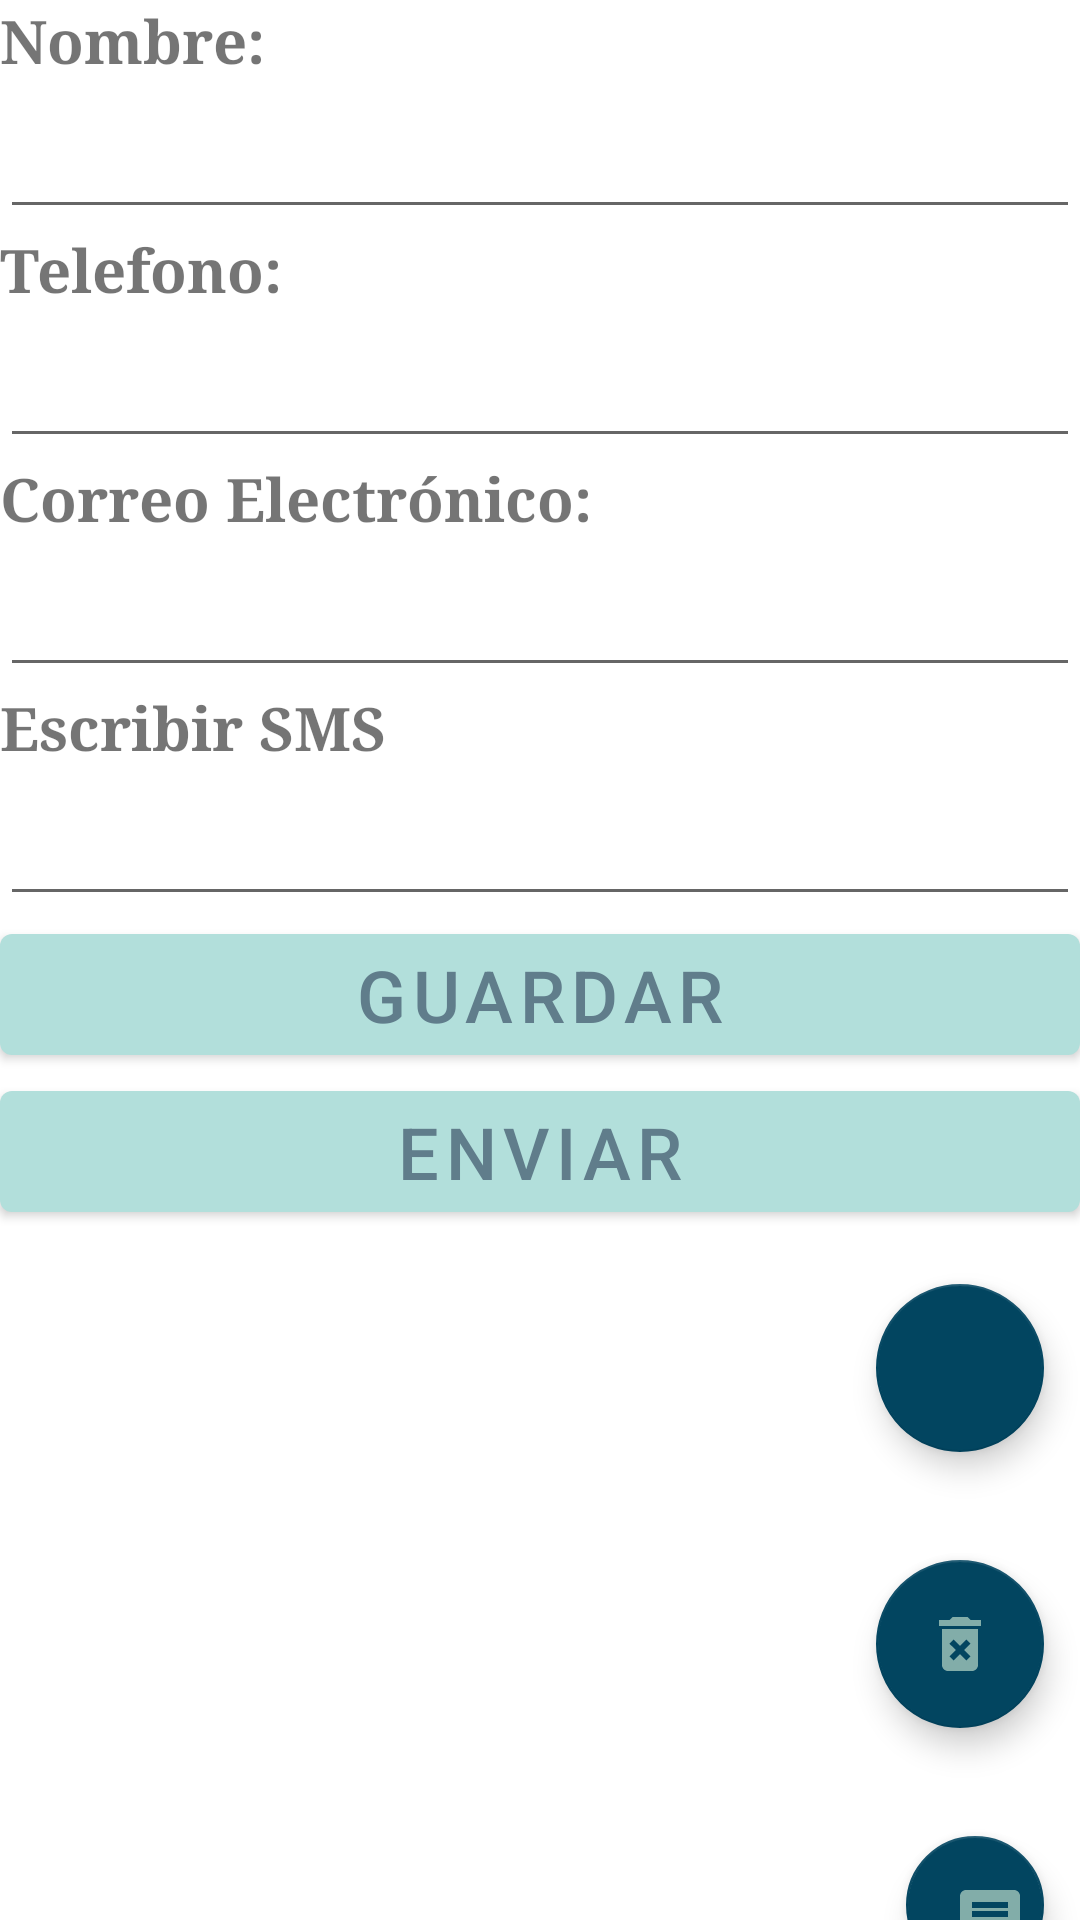

Named icons in this screenshot (1080x1920) and their centers, (x,y):
delete: (961,1652)
